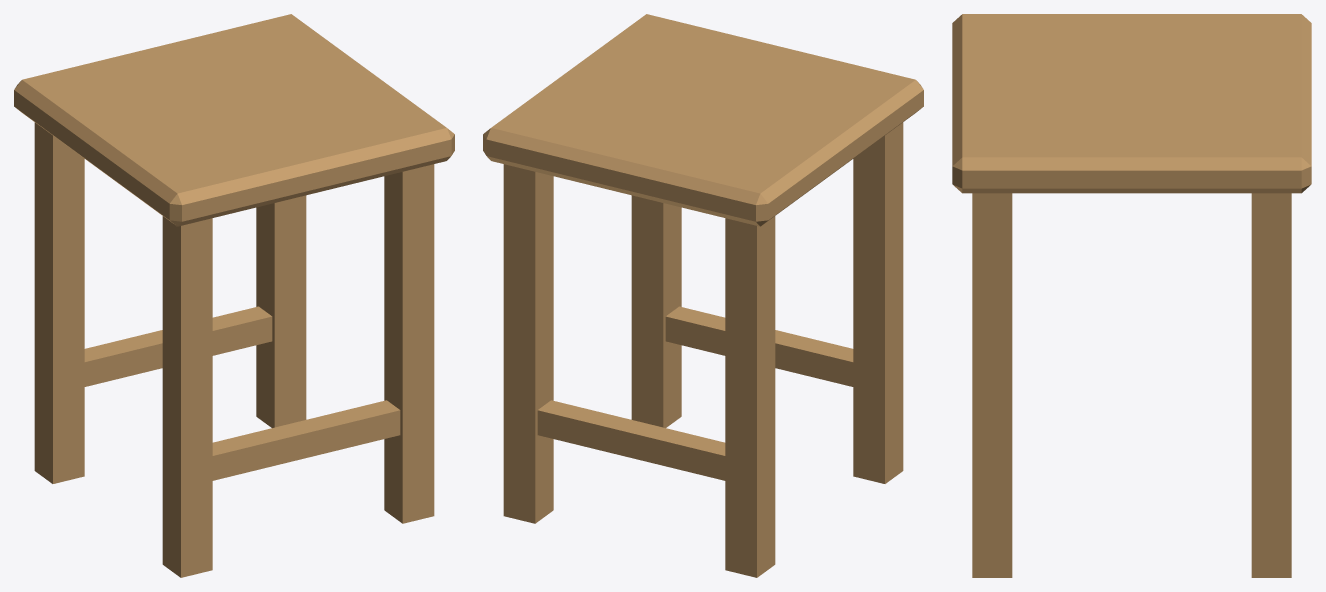
Rendered from stool.glb.
3 renders of one model, left to right at view 1: azimuth 30°, elevation 25°; view 2: azimuth 150°, elevation 25°; view 3: azimuth 270°, elevation 25°, orthographic. The views are drawn at different scales.
Visible parts, largest first — view 1: stool; view 2: stool; view 3: stool.
Boxes of the visible parts, x1,y1,x2,y2 form: stool: (14, 14, 454, 577); stool: (483, 14, 923, 577); stool: (952, 14, 1311, 577).
Size of the model in its own units: 0.36 by 0.47 by 0.36.
